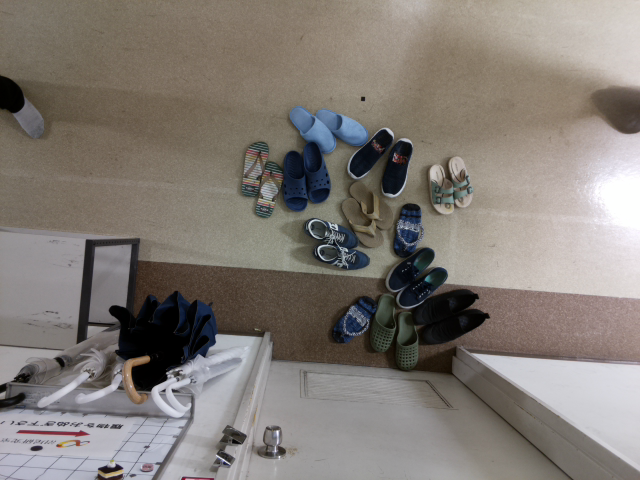Copy of Copy of Copy of Copy of Copy of Copy of Copy of Copy of Copy of Copy of: (404, 285, 482, 329), (346, 125, 396, 181), (285, 102, 338, 154), (383, 244, 438, 294), (346, 177, 396, 231), (312, 105, 371, 150), (340, 191, 382, 254), (395, 261, 449, 310), (393, 308, 426, 376), (367, 289, 400, 356), (309, 240, 372, 272), (296, 219, 359, 251)
Copy of Copy of Copy of Copy of Copy of Copy of Copy of Copy of Copy of shoe: (413, 305, 491, 349)
Copy of Copy of Copy of Copy of Copy of Copy of Copy of Copy of shoe: (330, 294, 377, 345)
Copy of Copy of Copy of Copy of Copy of Copy of Copy of shoe: (425, 161, 454, 218)
Copy of Copy of Copy of Copy of Copy of Copy of shoe: (445, 154, 474, 211)
Copy of Copy of Copy of Copy of Copy of shoe: (387, 200, 422, 259)
Copy of Copy of Copy of Copy of shoe: (378, 137, 414, 199)
Copy of Copy of Copy of shoe: (300, 144, 332, 207)
Copy of Copy of shoe: (278, 150, 310, 212)
Copy of shoe: (252, 156, 284, 219)
foot: (4, 81, 55, 147)
shoe: (238, 137, 270, 200)
